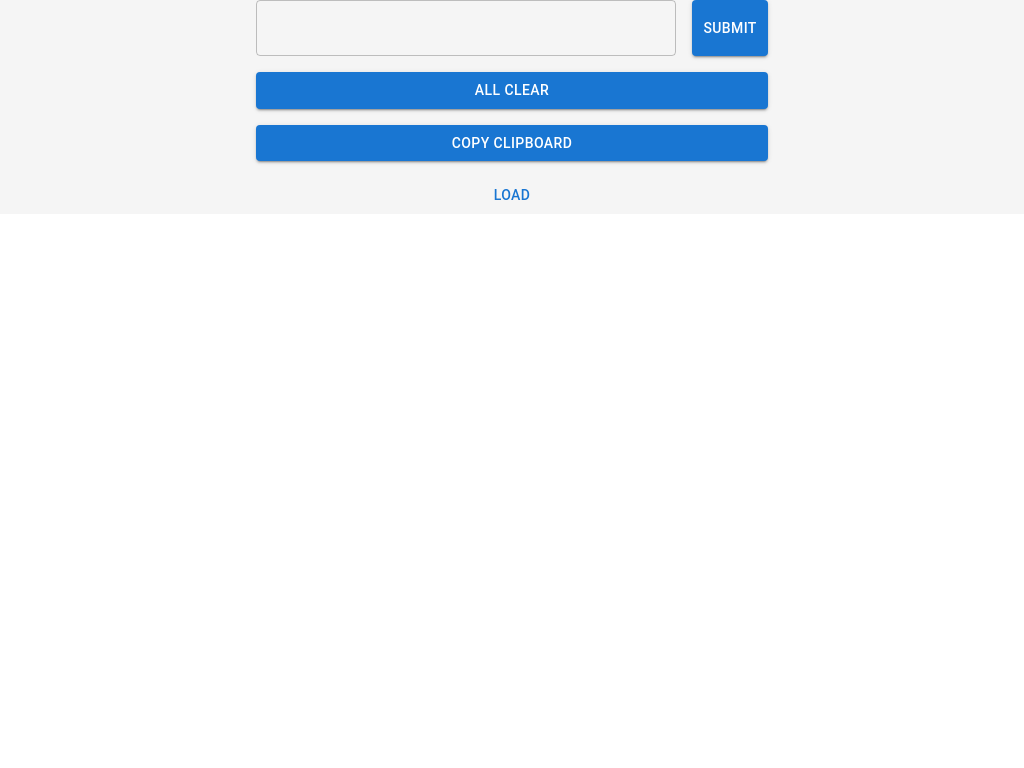
Test: テスト › all clear押す
Type "test" into the field at {"x": 466, "y": 28}, box [256, 0, 676, 56]
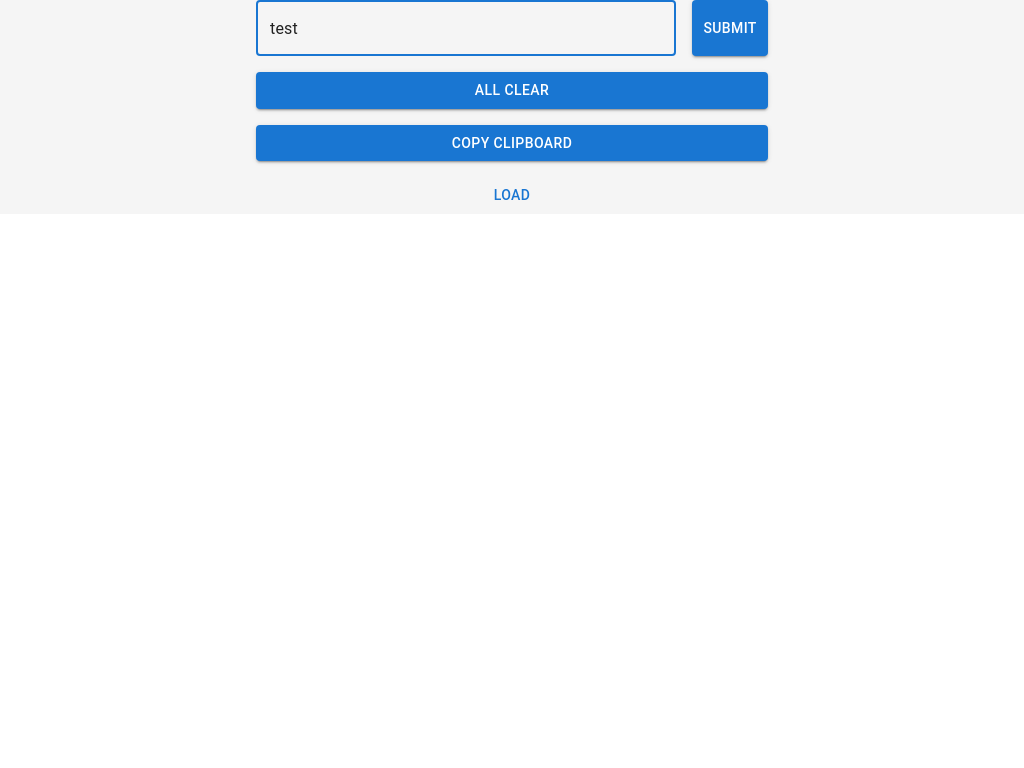
Click the submit button at {"x": 730, "y": 28}, box [692, 0, 768, 56]
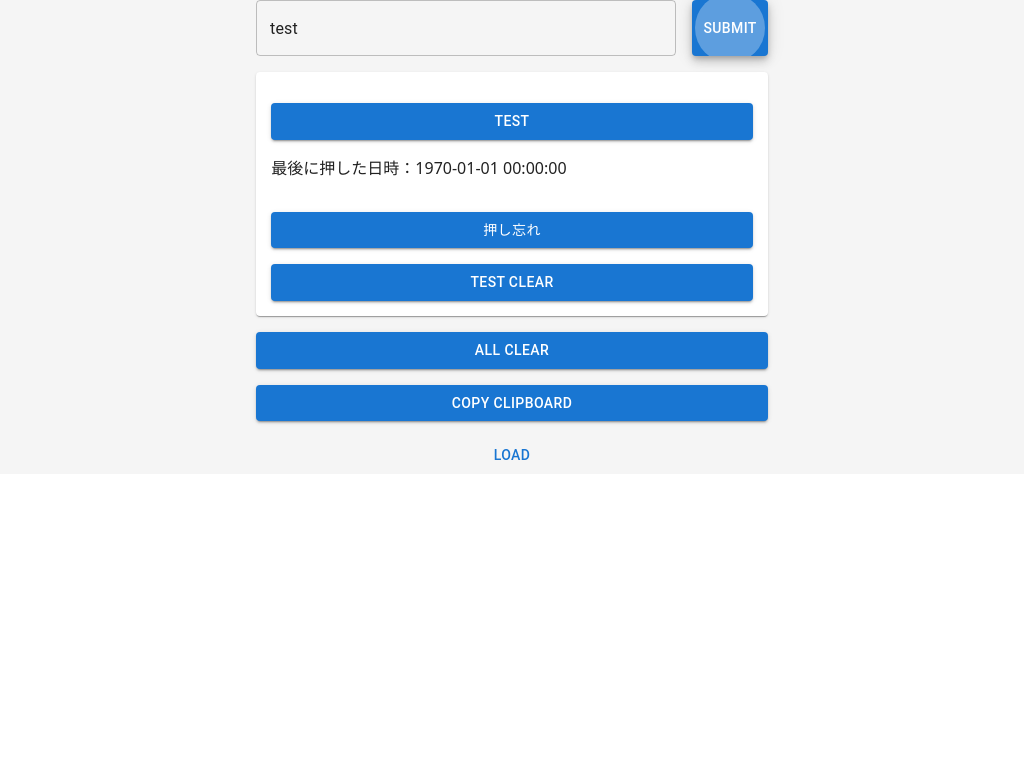
Type "test 2" into the field at {"x": 466, "y": 28}, box [256, 0, 676, 56]
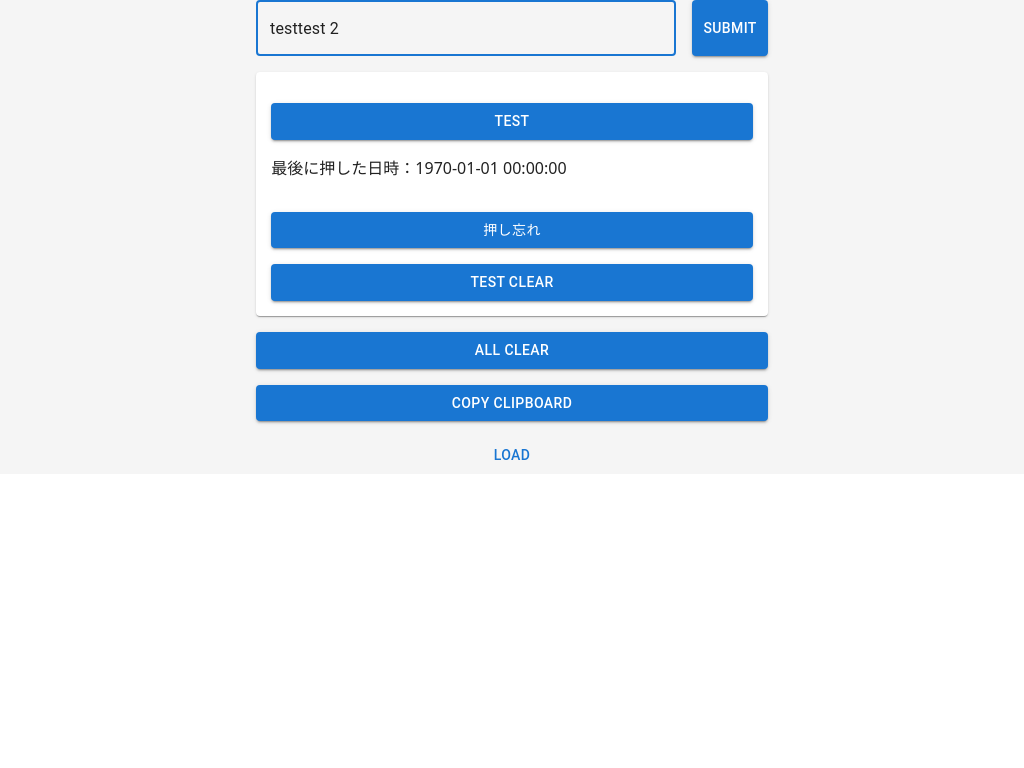
Click the submit button at {"x": 730, "y": 28}, box [692, 0, 768, 56]
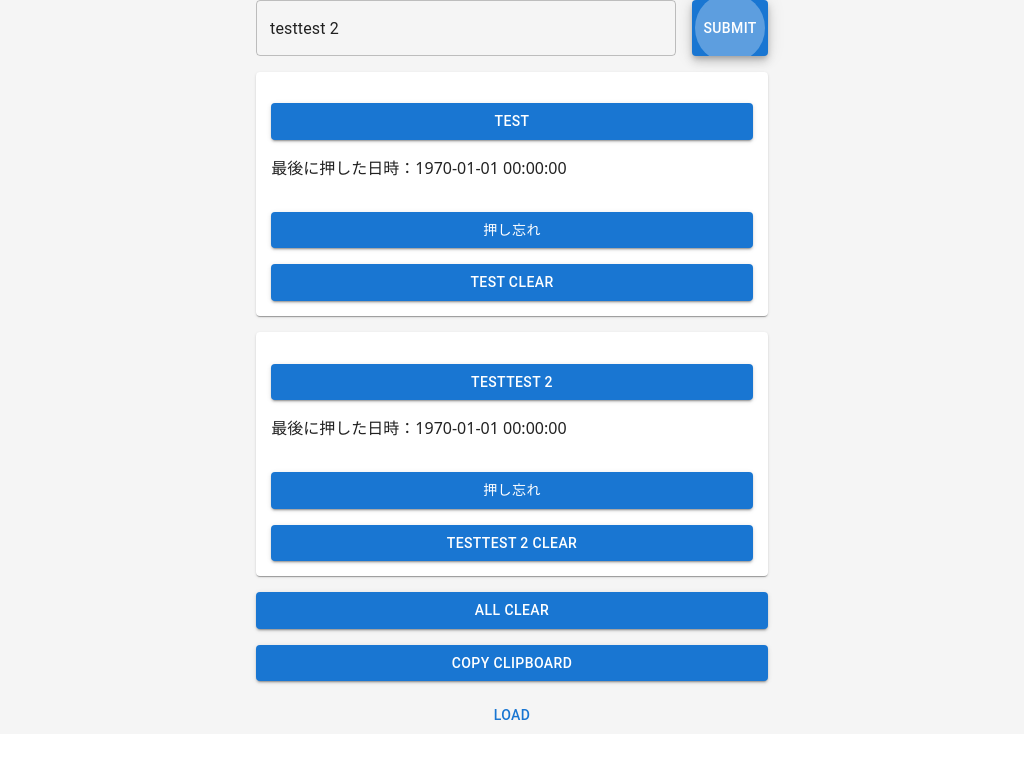
Check: the button "test" is shown, box [271, 103, 753, 140]
Check: the button "test 2" is shown, box [271, 364, 752, 401]
Click the button "all clear" at {"x": 512, "y": 611}, box [256, 592, 768, 629]
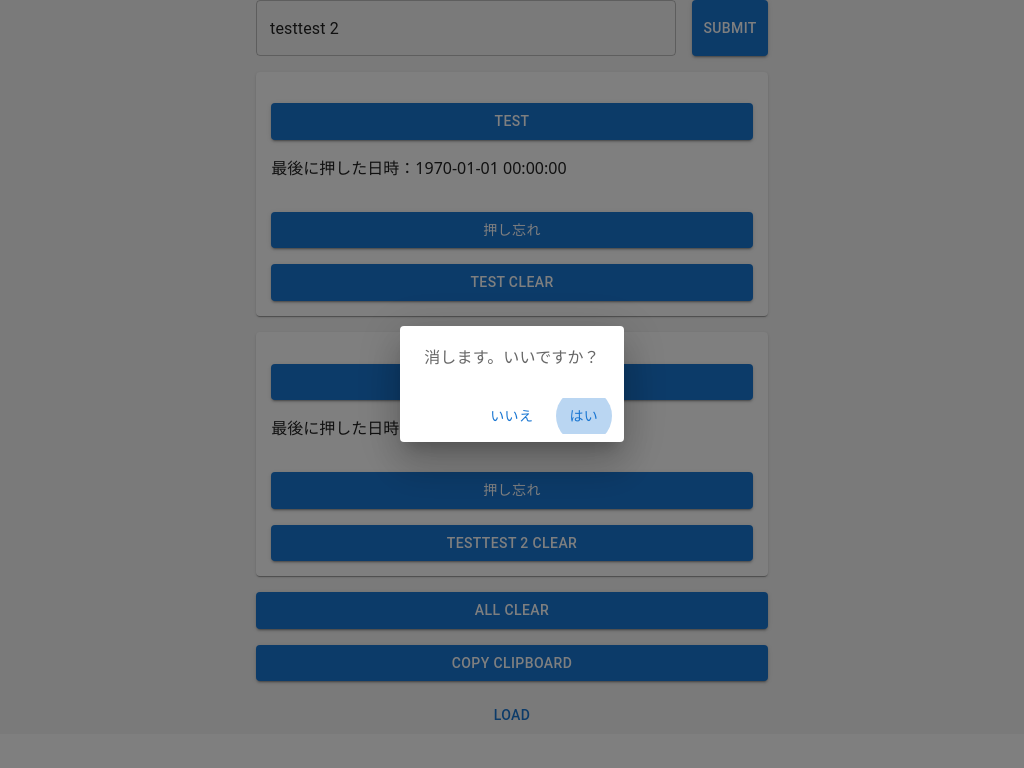
Click the button "はい" at {"x": 584, "y": 417}, box [552, 398, 616, 435]
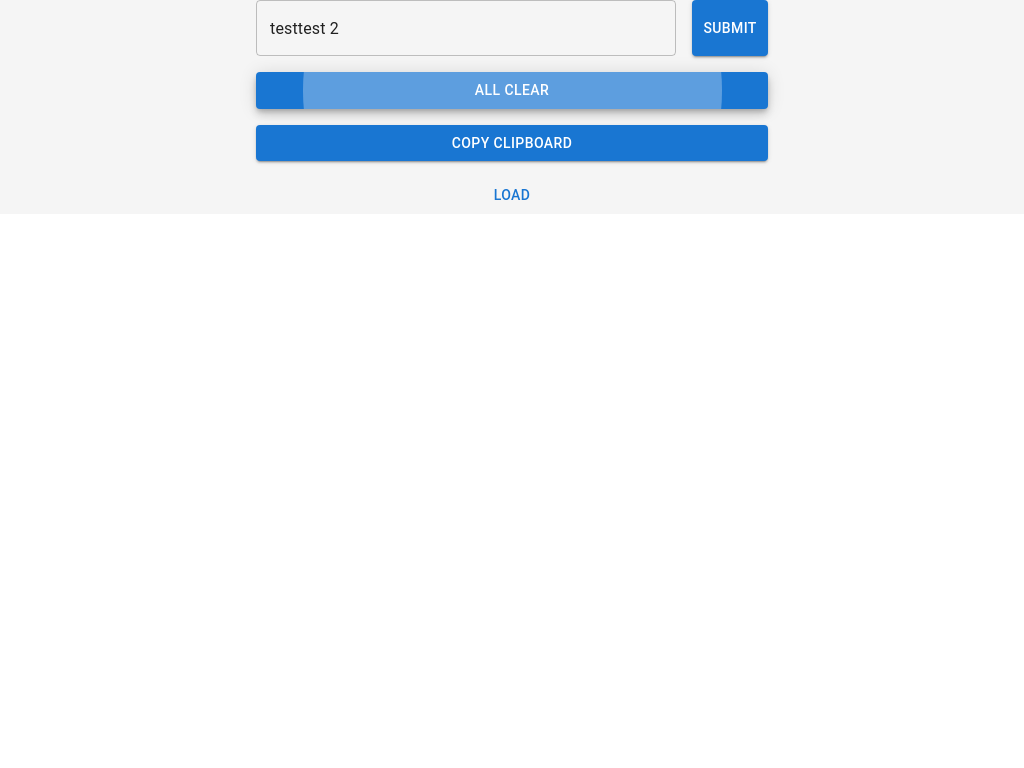
Check: the text "test" is gone
Check: the text "test 2" is gone
